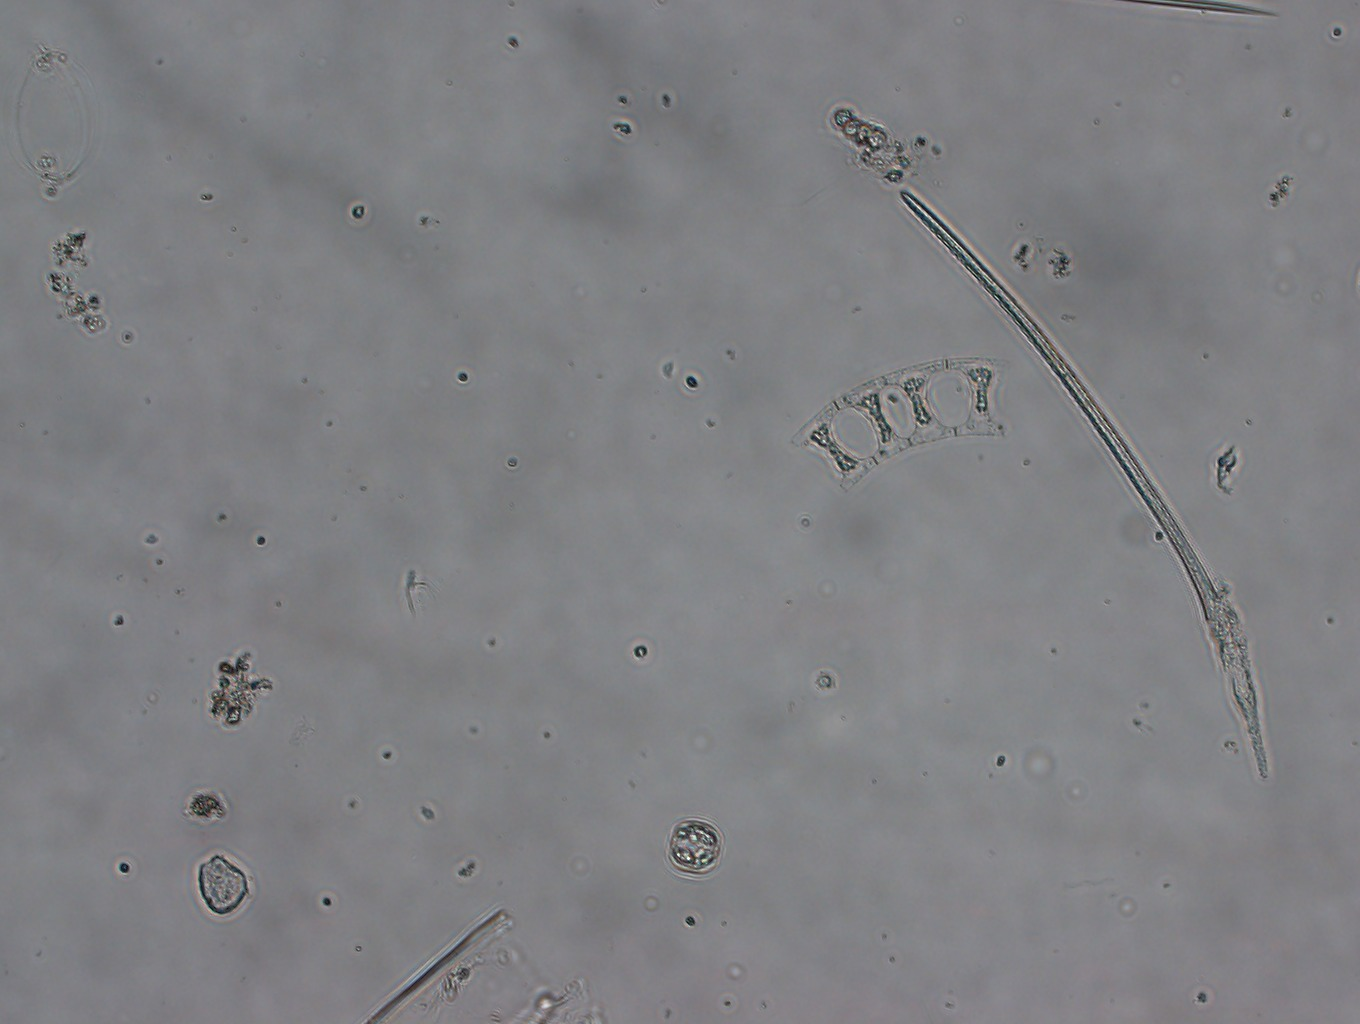ceratium fusus: (893, 185, 1280, 785)
eucampia: (784, 341, 1013, 494)
